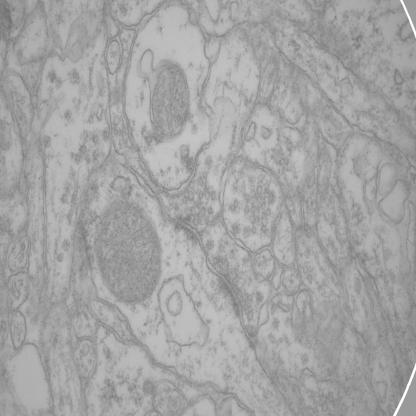mitochondria: (93, 197, 164, 305), (148, 57, 190, 144)
